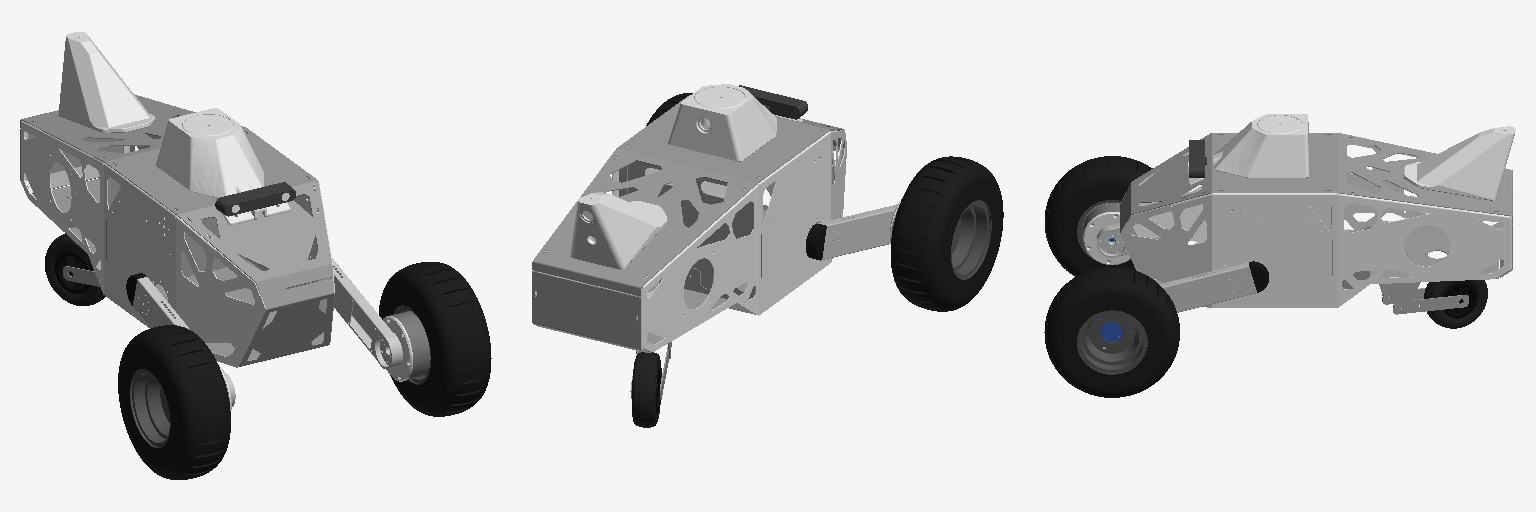
--- What the picture shows (computed from the rendered views, not written in the file) ---
The picture shows the robot from 3 angles, left to right: view 1: azimuth 30°, elevation 25°; view 2: azimuth 150°, elevation 25°; view 3: azimuth 270°, elevation 25°; orthographic projection.
Model C:\URDF with 5 links and 4 joints (4 revolute), rooted at urdf_drve_wheel_assembly, posed every joint at zero.
Visible links, largest first — view 1: urdf_rigid_v2, urdf_drve_wheel_assembly_2, urdf_drve_wheel_assembly, urdf_cstr_wheel_assembly__configuration_default; view 2: urdf_rigid_v2, urdf_drve_wheel_assembly_2, urdf_cstr_wheel_assembly__configuration_default; view 3: urdf_rigid_v2, urdf_drve_wheel_assembly, urdf_drve_wheel_assembly_2, urdf_cstr_wheel_assembly__configuration_default, urdf_cstr_assembly_v2.
Boxes of the visible links, x1,y1,x2,y2 form: urdf_rigid_v2: (20, 32, 430, 410); urdf_drve_wheel_assembly_2: (118, 325, 230, 479); urdf_drve_wheel_assembly: (379, 262, 491, 416); urdf_cstr_wheel_assembly__configuration_default: (45, 233, 105, 305); urdf_rigid_v2: (532, 84, 901, 352); urdf_drve_wheel_assembly_2: (891, 156, 1003, 311); urdf_cstr_wheel_assembly__configuration_default: (632, 352, 661, 427); urdf_rigid_v2: (1083, 114, 1515, 348); urdf_drve_wheel_assembly: (1044, 267, 1179, 397); urdf_drve_wheel_assembly_2: (1045, 156, 1152, 276); urdf_cstr_wheel_assembly__configuration_default: (1424, 280, 1487, 328); urdf_cstr_assembly_v2: (1379, 282, 1468, 314).
Bounding box of the posed robot: 0.7433 × 1.13 × 0.5663 m (x, y, z).
Meshes: 33 distinct files referenced, 45 mesh visuals loaded (31 binary STL); not drawn: 3 (file found but could not be loaded).

URDF robot description (C:\URDF):
<?xml version="1.0" ?>
<!-- Generated using onshape-to-robot -->
<!-- Onshape document_id: 156424edd687d78617c86c6b -->
<robot name="C:\URDF">
    <!-- Link urdf_drve_wheel_assembly -->
    <link name="urdf_drve_wheel_assembly">
        <inertial>
            <origin xyz="0.324722 -0.995092 -0.120257" rpy="0 0 0"/>
            <mass value="2.46468"/>
            <inertia ixx="0.0210846" ixy="-9.45889e-10" ixz="-2.03772e-09" iyy="0.0132215" iyz="5.21376e-10" izz="0.0132215"/>
        </inertial>
        <!-- Part bort_rim -->
        <visual>
            <origin xyz="0.331774 -0.995092 -0.120257" rpy="6.14407e-15 0.434592 1.5708"/>
            <geometry>
                <mesh filename="package://assets\bort_rim.stl"/>
            </geometry>
            <material name="bort_rim_material">
                <color rgba="0.372549 0.368627 0.368627 1.0"/>
            </material>
        </visual>
        <collision>
            <origin xyz="0.331774 -0.995092 -0.120257" rpy="6.14407e-15 0.434592 1.5708"/>
            <geometry>
                <mesh filename="package://assets\bort_rim.stl"/>
            </geometry>
        </collision>
        <!-- Part drve_output_carrier -->
        <visual>
            <origin xyz="0.238774 -0.995092 -0.120257" rpy="2.52899 -3.29145e-15 3.14159"/>
            <geometry>
                <mesh filename="package://assets\drve_output_carrier.stl"/>
            </geometry>
            <material name="drve_output_carrier_material">
                <color rgba="0.231373 0.380392 0.705882 1.0"/>
            </material>
        </visual>
        <collision>
            <origin xyz="0.238774 -0.995092 -0.120257" rpy="2.52899 -3.29145e-15 3.14159"/>
            <geometry>
                <mesh filename="package://assets\drve_output_carrier.stl"/>
            </geometry>
        </collision>
        <!-- Part bort_tire -->
        <visual>
            <origin xyz="0.331774 -0.995092 -0.120257" rpy="-3.14159 -1.1362 1.5708"/>
            <geometry>
                <mesh filename="package://assets\bort_tire.stl"/>
            </geometry>
            <material name="bort_tire_material">
                <color rgba="0.141176 0.141176 0.141176 1.0"/>
            </material>
        </visual>
        <collision>
            <origin xyz="0.331774 -0.995092 -0.120257" rpy="-3.14159 -1.1362 1.5708"/>
            <geometry>
                <mesh filename="package://assets\bort_tire.stl"/>
            </geometry>
        </collision>
    </link>
    <!-- Link urdf_rigid_v2 -->
    <link name="urdf_rigid_v2">
        <inertial>
            <origin xyz="0 0 0" rpy="0 0 0"/>
            <mass value="0"/>
            <inertia ixx="0" ixy="0" ixz="0" iyy="0" iyz="0" izz="0"/>
        </inertial>
        <!-- Part fcid_welded_body__configuration_ali_2mm -->
        <visual>
            <origin xyz="0.486251 -0.158399 -0.282125" rpy="-2.1834 -1.5708 0"/>
            <geometry>
                <mesh filename="package://assets\fcid_welded_body__configuration_ali_2mm.stl"/>
            </geometry>
            <material name="fcid_welded_body__configuration_ali_2mm_material">
                <color rgba="0.647059 0.647059 0.647059 1.0"/>
            </material>
        </visual>
        <collision>
            <origin xyz="0.486251 -0.158399 -0.282125" rpy="-2.1834 -1.5708 0"/>
            <geometry>
                <mesh filename="package://assets\fcid_welded_body__configuration_ali_2mm.stl"/>
            </geometry>
        </collision>
        <!-- Part fcid_gps_fin -->
        <visual>
            <origin xyz="0.490084 -0.150796 -0.282125" rpy="-2.20058 -1.5708 0"/>
            <geometry>
                <mesh filename="package://assets\fcid_gps_fin.stl"/>
            </geometry>
            <material name="fcid_gps_fin_material">
                <color rgba="0.917647 0.917647 0.917647 1.0"/>
            </material>
        </visual>
        <collision>
            <origin xyz="0.490084 -0.150796 -0.282125" rpy="-2.20058 -1.5708 0"/>
            <geometry>
                <mesh filename="package://assets\fcid_gps_fin.stl"/>
            </geometry>
        </collision>
        <!-- Part fcid_lidar_fin -->
        <visual>
            <origin xyz="0.484201 -0.15757 -0.282354" rpy="-2.1834 -1.5708 0"/>
            <geometry>
                <mesh filename="package://assets\fcid_lidar_fin.stl"/>
            </geometry>
            <material name="fcid_lidar_fin_material">
                <color rgba="0.917647 0.917647 0.917647 1.0"/>
            </material>
        </visual>
        <collision>
            <origin xyz="0.484201 -0.15757 -0.282354" rpy="-2.1834 -1.5708 0"/>
            <geometry>
                <mesh filename="package://assets\fcid_lidar_fin.stl"/>
            </geometry>
        </collision>
        <!-- Part fcid_lid__configuration_ali_2mm -->
        <visual>
            <origin xyz="0.486251 -0.158399 -0.282125" rpy="-2.1834 -1.5708 0"/>
            <geometry>
                <mesh filename="package://assets\fcid_lid__configuration_ali_2mm.stl"/>
            </geometry>
            <material name="fcid_lid__configuration_ali_2mm_material">
                <color rgba="0.647059 0.647059 0.647059 1.0"/>
            </material>
        </visual>
        <collision>
            <origin xyz="0.486251 -0.158399 -0.282125" rpy="-2.1834 -1.5708 0"/>
            <geometry>
                <mesh filename="package://assets\fcid_lid__configuration_ali_2mm.stl"/>
            </geometry>
        </collision>
        <!-- Part fcid_body_right__configuration_ali_2mm -->
        <visual>
            <origin xyz="0.486251 -0.158399 -0.282125" rpy="-2.1834 -1.5708 0"/>
            <geometry>
                <mesh filename="package://assets\fcid_body_right__configuration_ali_2mm.stl"/>
            </geometry>
            <material name="fcid_body_right__configuration_ali_2mm_material">
                <color rgba="0.917647 0.917647 0.917647 1.0"/>
            </material>
        </visual>
        <collision>
            <origin xyz="0.486251 -0.158399 -0.282125" rpy="-2.1834 -1.5708 0"/>
            <geometry>
                <mesh filename="package://assets\fcid_body_right__configuration_ali_2mm.stl"/>
            </geometry>
        </collision>
        <!-- Part fcid_divider_mount__configuration_ali_2mm -->
        <visual>
            <origin xyz="0.486251 -0.158399 -0.282125" rpy="-2.1834 -1.5708 0"/>
            <geometry>
                <mesh filename="package://assets\fcid_divider_mount__configuration_ali_2mm.stl"/>
            </geometry>
            <material name="fcid_divider_mount__configuration_ali_2mm_material">
                <color rgba="0.647059 0.647059 0.647059 1.0"/>
            </material>
        </visual>
        <collision>
            <origin xyz="0.486251 -0.158399 -0.282125" rpy="-2.1834 -1.5708 0"/>
            <geometry>
                <mesh filename="package://assets\fcid_divider_mount__configuration_ali_2mm.stl"/>
            </geometry>
        </collision>
        <!-- Part fcid_camera_mount -->
        <visual>
            <origin xyz="0.469199 -0.153954 -0.282125" rpy="-2.1834 -1.5708 0"/>
            <geometry>
                <mesh filename="package://assets\fcid_camera_mount.stl"/>
            </geometry>
            <material name="fcid_camera_mount_material">
                <color rgba="0.917647 0.917647 0.917647 1.0"/>
            </material>
        </visual>
        <collision>
            <origin xyz="0.469199 -0.153954 -0.282125" rpy="-2.1834 -1.5708 0"/>
            <geometry>
                <mesh filename="package://assets\fcid_camera_mount.stl"/>
            </geometry>
        </collision>
        <!-- Part fcid_rear__configuration_ali_2mm -->
        <visual>
            <origin xyz="0.486251 -0.158399 -0.282125" rpy="-2.1834 -1.5708 0"/>
            <geometry>
                <mesh filename="package://assets\fcid_rear__configuration_ali_2mm.stl"/>
            </geometry>
            <material name="fcid_rear__configuration_ali_2mm_material">
                <color rgba="0.647059 0.647059 0.647059 1.0"/>
            </material>
        </visual>
        <collision>
            <origin xyz="0.486251 -0.158399 -0.282125" rpy="-2.1834 -1.5708 0"/>
            <geometry>
                <mesh filename="package://assets\fcid_rear__configuration_ali_2mm.stl"/>
            </geometry>
        </collision>
        <!-- Part fcid_divider__configuration_ali_2mm -->
        <visual>
            <origin xyz="0.486251 -0.158399 -0.282125" rpy="-2.1834 -1.5708 0"/>
            <geometry>
                <mesh filename="package://assets\fcid_divider__configuration_ali_2mm.stl"/>
            </geometry>
            <material name="fcid_divider__configuration_ali_2mm_material">
                <color rgba="0.647059 0.647059 0.647059 1.0"/>
            </material>
        </visual>
        <collision>
            <origin xyz="0.486251 -0.158399 -0.282125" rpy="-2.1834 -1.5708 0"/>
            <geometry>
                <mesh filename="package://assets\fcid_divider__configuration_ali_2mm.stl"/>
            </geometry>
        </collision>
        <!-- Part fcid_body_left__configuration_ali_2mm -->
        <visual>
            <origin xyz="0.486251 -0.158399 -0.282125" rpy="-2.1834 -1.5708 0"/>
            <geometry>
                <mesh filename="package://assets\fcid_body_left__configuration_ali_2mm.stl"/>
            </geometry>
            <material name="fcid_body_left__configuration_ali_2mm_material">
                <color rgba="0.917647 0.917647 0.917647 1.0"/>
            </material>
        </visual>
        <collision>
            <origin xyz="0.486251 -0.158399 -0.282125" rpy="-2.1834 -1.5708 0"/>
            <geometry>
                <mesh filename="package://assets\fcid_body_left__configuration_ali_2mm.stl"/>
            </geometry>
        </collision>
        <!-- Part velodyne_vlp16 -->
        <visual>
            <origin xyz="0.560407 0.0981063 -0.282354" rpy="-4.83258e-15 6.44901e-15 -0.612605"/>
            <geometry>
                <mesh filename="package://assets\velodyne_vlp16.stl"/>
            </geometry>
            <material name="velodyne_vlp16_material">
                <color rgba="0.74902 0.74902 0.74902 1.0"/>
            </material>
        </visual>
        <collision>
            <origin xyz="0.560407 0.0981063 -0.282354" rpy="-4.83258e-15 6.44901e-15 -0.612605"/>
            <geometry>
                <mesh filename="package://assets\velodyne_vlp16.stl"/>
            </geometry>
        </collision>
        <!-- Part bort_motor -->
        <visual>
            <origin xyz="0 -1.11022e-16 -0.062" rpy="-1.53959 1.5708 0"/>
            <geometry>
                <mesh filename="package://assets\bort_motor.stl"/>
            </geometry>
            <material name="bort_motor_material">
                <color rgba="0.654902 0.823529 0.576471 1.0"/>
            </material>
        </visual>
        <collision>
            <origin xyz="0 -1.11022e-16 -0.062" rpy="-1.53959 1.5708 0"/>
            <geometry>
                <mesh filename="package://assets\bort_motor.stl"/>
            </geometry>
        </collision>
        <!-- Part drve_arm_bracket -->
        <visual>
            <origin xyz="0 -1.66533e-16 -0.08225" rpy="-1.53959 1.5708 0"/>
            <geometry>
                <mesh filename="package://assets\drve_arm_bracket.stl"/>
            </geometry>
            <material name="drve_arm_bracket_material">
                <color rgba="0.8 0.8 0.8 1.0"/>
            </material>
        </visual>
        <collision>
            <origin xyz="0 -1.66533e-16 -0.08225" rpy="-1.53959 1.5708 0"/>
            <geometry>
                <mesh filename="package://assets\drve_arm_bracket.stl"/>
            </geometry>
        </collision>
        <!-- Part drve_bottom_plate -->
        <visual>
            <origin xyz="0 -1.11022e-16 -0.062" rpy="-1.53959 1.5708 0"/>
            <geometry>
                <mesh filename="package://assets\drve_bottom_plate.stl"/>
            </geometry>
            <material name="drve_bottom_plate_material">
                <color rgba="0.917647 0.917647 0.917647 1.0"/>
            </material>
        </visual>
        <collision>
            <origin xyz="0 -1.11022e-16 -0.062" rpy="-1.53959 1.5708 0"/>
            <geometry>
                <mesh filename="package://assets\drve_bottom_plate.stl"/>
            </geometry>
        </collision>
        <!-- Part drve_top_plate -->
        <visual>
            <origin xyz="0 -1.11022e-16 -0.062" rpy="-1.53959 1.5708 0"/>
            <geometry>
                <mesh filename="package://assets\drve_top_plate.stl"/>
            </geometry>
            <material name="drve_top_plate_material">
                <color rgba="0.917647 0.917647 0.917647 1.0"/>
            </material>
        </visual>
        <collision>
            <origin xyz="0 -1.11022e-16 -0.062" rpy="-1.53959 1.5708 0"/>
            <geometry>
                <mesh filename="package://assets\drve_top_plate.stl"/>
            </geometry>
        </collision>
        <!-- Part drve_middle -->
        <visual>
            <origin xyz="0 -1.11022e-16 -0.062" rpy="-1.53959 1.5708 0"/>
            <geometry>
                <mesh filename="package://assets\drve_middle.stl"/>
            </geometry>
            <material name="drve_middle_material">
                <color rgba="0.501961 0.501961 0.501961 1.0"/>
            </material>
        </visual>
        <collision>
            <origin xyz="0 -1.11022e-16 -0.062" rpy="-1.53959 1.5708 0"/>
            <geometry>
                <mesh filename="package://assets\drve_middle.stl"/>
            </geometry>
        </collision>
        <!-- Part optic -->
        <visual>
            <origin xyz="0.383794 0.125324 -0.222125" rpy="-2.1834 -1.5708 0"/>
            <geometry>
                <mesh filename="package://assets\optic.stl"/>
            </geometry>
            <material name="optic_material">
                <color rgba="0.964706 0.964706 0.952941 1.0"/>
            </material>
        </visual>
        <collision>
            <origin xyz="0.383794 0.125324 -0.222125" rpy="-2.1834 -1.5708 0"/>
            <geometry>
                <mesh filename="package://assets\optic.stl"/>
            </geometry>
        </collision>
        <!-- Part optic_2 -->
        <visual>
            <origin xyz="0.383794 0.125324 -0.342125" rpy="-2.1834 -1.5708 0"/>
            <geometry>
                <mesh filename="package://assets\optic.stl"/>
            </geometry>
            <material name="optic_2_material">
                <color rgba="0.964706 0.964706 0.952941 1.0"/>
            </material>
        </visual>
        <collision>
            <origin xyz="0.383794 0.125324 -0.342125" rpy="-2.1834 -1.5708 0"/>
            <geometry>
                <mesh filename="package://assets\optic.stl"/>
            </geometry>
        </collision>
        <!-- Part optic_3 -->
        <visual>
            <origin xyz="0.383794 0.125324 -0.342125" rpy="-2.1834 -1.5708 0"/>
            <geometry>
                <mesh filename="package://assets\optic__2.stl"/>
            </geometry>
            <material name="optic_3_material">
                <color rgba="0.964706 0.964706 0.952941 1.0"/>
            </material>
        </visual>
        <collision>
            <origin xyz="0.383794 0.125324 -0.342125" rpy="-2.1834 -1.5708 0"/>
            <geometry>
                <mesh filename="package://assets\optic__2.stl"/>
            </geometry>
        </collision>
        <!-- Part zed2_ip_outer_with_lens_v8 -->
        <visual>
            <origin xyz="0.373352 0.122099 -0.273156" rpy="-2.1834 -1.5708 0"/>
            <geometry>
                <mesh filename="package://assets\zed2_ip_outer_with_lens_v8.stl"/>
            </geometry>
            <material name="zed2_ip_outer_with_lens_v8_material">
                <color rgba="0.964706 0.964706 0.952941 1.0"/>
            </material>
        </visual>
        <collision>
            <origin xyz="0.373352 0.122099 -0.273156" rpy="-2.1834 -1.5708 0"/>
            <geometry>
                <mesh filename="package://assets\zed2_ip_outer_with_lens_v8.stl"/>
            </geometry>
        </collision>
        <!-- Part optic_4 -->
        <visual>
            <origin xyz="0.383794 0.125324 -0.222125" rpy="-2.1834 -1.5708 0"/>
            <geometry>
                <mesh filename="package://assets\optic__3.stl"/>
            </geometry>
            <material name="optic_4_material">
                <color rgba="0.192157 0.192157 0.192157 1.0"/>
            </material>
        </visual>
        <collision>
            <origin xyz="0.383794 0.125324 -0.222125" rpy="-2.1834 -1.5708 0"/>
            <geometry>
                <mesh filename="package://assets\optic__3.stl"/>
            </geometry>
        </collision>
        <!-- Part optic_5 -->
        <visual>
            <origin xyz="0.383794 0.125324 -0.342125" rpy="-2.1834 -1.5708 0"/>
            <geometry>
                <mesh filename="package://assets\optic__3.stl"/>
            </geometry>
            <material name="optic_5_material">
                <color rgba="0.192157 0.192157 0.192157 1.0"/>
            </material>
        </visual>
        <collision>
            <origin xyz="0.383794 0.125324 -0.342125" rpy="-2.1834 -1.5708 0"/>
            <geometry>
                <mesh filename="package://assets\optic__3.stl"/>
            </geometry>
        </collision>
        <!-- Part optic_6 -->
        <visual>
            <origin xyz="0.383794 0.125324 -0.342125" rpy="-2.1834 -1.5708 0"/>
            <geometry>
                <mesh filename="package://assets\optic__4.stl"/>
            </geometry>
            <material name="optic_6_material">
                <color rgba="0.964706 0.964706 0.952941 1.0"/>
            </material>
        </visual>
        <collision>
            <origin xyz="0.383794 0.125324 -0.342125" rpy="-2.1834 -1.5708 0"/>
            <geometry>
                <mesh filename="package://assets\optic__4.stl"/>
            </geometry>
        </collision>
        <!-- Part optic_7 -->
        <visual>
            <origin xyz="0.383794 0.125324 -0.222125" rpy="-2.1834 -1.5708 0"/>
            <geometry>
                <mesh filename="package://assets\optic__2.stl"/>
            </geometry>
            <material name="optic_7_material">
                <color rgba="0.964706 0.964706 0.952941 1.0"/>
            </material>
        </visual>
        <collision>
            <origin xyz="0.383794 0.125324 -0.222125" rpy="-2.1834 -1.5708 0"/>
            <geometry>
                <mesh filename="package://assets\optic__2.stl"/>
            </geometry>
        </collision>
        <!-- Part zed2_ip_outer_with_lens_v8_2 -->
        <visual>
            <origin xyz="0.373352 0.122099 -0.273156" rpy="-2.1834 -1.5708 0"/>
            <geometry>
                <mesh filename="package://assets\zed2_ip_outer_with_lens_v8__2.stl"/>
            </geometry>
            <material name="zed2_ip_outer_with_lens_v8_2_material">
                <color rgba="0.964706 0.964706 0.952941 1.0"/>
            </material>
        </visual>
        <collision>
            <origin xyz="0.373352 0.122099 -0.273156" rpy="-2.1834 -1.5708 0"/>
            <geometry>
                <mesh filename="package://assets\zed2_ip_outer_with_lens_v8__2.stl"/>
            </geometry>
        </collision>
        <!-- Part zed2_ip_outer_with_lens_v8_3 -->
        <visual>
            <origin xyz="0.373352 0.122099 -0.273156" rpy="-2.1834 -1.5708 0"/>
            <geometry>
                <mesh filename="package://assets\zed2_ip_outer_with_lens_v8__3.stl"/>
            </geometry>
            <material name="zed2_ip_outer_with_lens_v8_3_material">
                <color rgba="0.286275 0.286275 0.286275 1.0"/>
            </material>
        </visual>
        <collision>
            <origin xyz="0.373352 0.122099 -0.273156" rpy="-2.1834 -1.5708 0"/>
            <geometry>
                <mesh filename="package://assets\zed2_ip_outer_with_lens_v8__3.stl"/>
            </geometry>
        </collision>
        <!-- Part optic_8 -->
        <visual>
            <origin xyz="0.383794 0.125324 -0.222125" rpy="-2.1834 -1.5708 0"/>
            <geometry>
                <mesh filename="package://assets\optic__4.stl"/>
            </geometry>
            <material name="optic_8_material">
                <color rgba="0.964706 0.964706 0.952941 1.0"/>
            </material>
        </visual>
        <collision>
            <origin xyz="0.383794 0.125324 -0.222125" rpy="-2.1834 -1.5708 0"/>
            <geometry>
                <mesh filename="package://assets\optic__4.stl"/>
            </geometry>
        </collision>
        <!-- Part bort_motor_2 -->
        <visual>
            <origin xyz="-1.21014e-14 4.05231e-15 -0.50225" rpy="-2.23032 -1.5708 0"/>
            <geometry>
                <mesh filename="package://assets\bort_motor.stl"/>
            </geometry>
            <material name="bort_motor_2_material">
                <color rgba="0.654902 0.823529 0.576471 1.0"/>
            </material>
        </visual>
        <collision>
            <origin xyz="-1.21014e-14 4.05231e-15 -0.50225" rpy="-2.23032 -1.5708 0"/>
            <geometry>
                <mesh filename="package://assets\bort_motor.stl"/>
            </geometry>
        </collision>
        <!-- Part drve_arm_bracket_2 -->
        <visual>
            <origin xyz="-1.18794e-14 4.16334e-15 -0.482" rpy="-2.23032 -1.5708 0"/>
            <geometry>
                <mesh filename="package://assets\drve_arm_bracket.stl"/>
            </geometry>
            <material name="drve_arm_bracket_2_material">
                <color rgba="0.8 0.8 0.8 1.0"/>
            </material>
        </visual>
        <collision>
            <origin xyz="-1.18794e-14 4.16334e-15 -0.482" rpy="-2.23032 -1.5708 0"/>
            <geometry>
                <mesh filename="package://assets\drve_arm_bracket.stl"/>
            </geometry>
        </collision>
        <!-- Part drve_bottom_plate_2 -->
        <visual>
            <origin xyz="-1.23235e-14 4.21885e-15 -0.50225" rpy="-2.23032 -1.5708 0"/>
            <geometry>
                <mesh filename="package://assets\drve_bottom_plate.stl"/>
            </geometry>
            <material name="drve_bottom_plate_2_material">
                <color rgba="0.917647 0.917647 0.917647 1.0"/>
            </material>
        </visual>
        <collision>
            <origin xyz="-1.23235e-14 4.21885e-15 -0.50225" rpy="-2.23032 -1.5708 0"/>
            <geometry>
                <mesh filename="package://assets\drve_bottom_plate.stl"/>
            </geometry>
        </collision>
        <!-- Part drve_top_plate_2 -->
        <visual>
            <origin xyz="-1.23235e-14 4.21885e-15 -0.50225" rpy="-2.23032 -1.5708 0"/>
            <geometry>
                <mesh filename="package://assets\drve_top_plate.stl"/>
            </geometry>
            <material name="drve_top_plate_2_material">
                <color rgba="0.917647 0.917647 0.917647 1.0"/>
            </material>
        </visual>
        <collision>
            <origin xyz="-1.23235e-14 4.21885e-15 -0.50225" rpy="-2.23032 -1.5708 0"/>
            <geometry>
                <mesh filename="package://assets\drve_top_plate.stl"/>
            </geometry>
        </collision>
        <!-- Part drve_middle_2 -->
        <visual>
            <origin xyz="-1.23235e-14 4.21885e-15 -0.50225" rpy="-2.23032 -1.5708 0"/>
            <geometry>
                <mesh filename="package://assets\drve_middle.stl"/>
            </geometry>
            <material name="drve_middle_2_material">
                <color rgba="0.501961 0.501961 0.501961 1.0"/>
            </material>
        </visual>
        <collision>
            <origin xyz="-1.23235e-14 4.21885e-15 -0.50225" rpy="-2.23032 -1.5708 0"/>
            <geometry>
                <mesh filename="package://assets\drve_middle.stl"/>
            </geometry>
        </collision>
        <!-- Part arm_endcap -->
        <visual>
            <origin xyz="0.118543 -0.091911 -0.483125" rpy="-0.911273 1.5708 0"/>
            <geometry>
                <mesh filename="package://assets\arm_endcap.stl"/>
            </geometry>
            <material name="arm_endcap_material">
                <color rgba="0.121569 0.121569 0.121569 1.0"/>
            </material>
        </visual>
        <collision>
            <origin xyz="0.118543 -0.091911 -0.483125" rpy="-0.911273 1.5708 0"/>
            <geometry>
                <mesh filename="package://assets\arm_endcap.stl"/>
            </geometry>
        </collision>
        <!-- Part arm_endcap_2 -->
        <visual>
            <origin xyz="0.118543 -0.091911 -0.081125" rpy="-0.911273 1.5708 0"/>
            <geometry>
                <mesh filename="package://assets\arm_endcap.stl"/>
            </geometry>
            <material name="arm_endcap_2_material">
                <color rgba="0.121569 0.121569 0.121569 1.0"/>
            </material>
        </visual>
        <collision>
            <origin xyz="0.118543 -0.091911 -0.081125" rpy="-0.911273 1.5708 0"/>
            <geometry>
                <mesh filename="package://assets\arm_endcap.stl"/>
            </geometry>
        </collision>
        <!-- Part arm_rhs -->
        <visual>
            <origin xyz="0.118543 -0.091911 -0.483125" rpy="-0.911273 1.5708 0"/>
            <geometry>
                <mesh filename="package://assets\arm_rhs.stl"/>
            </geometry>
            <material name="arm_rhs_material">
                <color rgba="0.8 0.8 0.8 1.0"/>
            </material>
        </visual>
        <collision>
            <origin xyz="0.118543 -0.091911 -0.483125" rpy="-0.911273 1.5708 0"/>
            <geometry>
                <mesh filename="package://assets\arm_rhs.stl"/>
            </geometry>
        </collision>
        <!-- Part arm_rhs_2 -->
        <visual>
            <origin xyz="0.149927 -0.00467996 -0.081125" rpy="1.53959 -1.5708 0"/>
            <geometry>
                <mesh filename="package://assets\arm_rhs.stl"/>
            </geometry>
            <material name="arm_rhs_2_material">
                <color rgba="0.8 0.8 0.8 1.0"/>
            </material>
        </visual>
        <collision>
            <origin xyz="0.149927 -0.00467996 -0.081125" rpy="1.53959 -1.5708 0"/>
            <geometry>
                <mesh filename="package://assets\arm_rhs.stl"/>
            </geometry>
        </collision>
    </link>
    <!-- Link urdf_cstr_assembly_v2 -->
    <link name="urdf_cstr_assembly_v2">
        <inertial>
            <origin xyz="1.5621e-07 -0.0357066 -0.0782487" rpy="0 0 0"/>
            <mass value="0.252085"/>
            <inertia ixx="0.0014392" ixy="-6.87264e-10" ixz="-2.53705e-09" iyy="0.000970124" iyz="-0.000416745" izz="0.000918439"/>
        </inertial>
        <!-- Part caster_arm_r -->
        <visual>
            <origin xyz="-0.0864 -0.17791 -0.159689" rpy="3.17155e-16 -0.0876147 1.5708"/>
            <geometry>
                <mesh filename="package://assets\caster_arm_r.stl"/>
            </geometry>
            <material name="caster_arm_r_material">
                <color rgba="0.647059 0.647059 0.647059 1.0"/>
            </material>
        </visual>
        <collision>
            <origin xyz="-0.0864 -0.17791 -0.159689" rpy="3.17155e-16 -0.0876147 1.5708"/>
            <geometry>
                <mesh filename="package://assets\caster_arm_r.stl"/>
            </geometry>
        </collision>
        <!-- Part bearing_spacer -->
        <visual>
            <origin xyz="0 0 -0.006" rpy="0 -1.54074e-33 1.27705e-17"/>
            <geometry>
                <mesh filename="package://assets\bearing_spacer.stl"/>
            </geometry>
            <material name="bearing_spacer_material">
                <color rgba="0.8 0.8 0.8 1.0"/>
            </material>
        </visual>
        <collision>
            <origin xyz="0 0 -0.006" rpy="0 -1.54074e-33 1.27705e-17"/>
            <geometry>
                <mesh filename="package://assets\bearing_spacer.stl"/>
            </geometry>
        </collision>
        <!-- Part caster_arm_r_2 -->
        <visual>
            <origin xyz="-0.0254 -0.17791 -0.159689" rpy="-2.46491e-15 -0.0876147 1.5708"/>
            <geometry>
                <mesh filename="package://assets\caster_arm_r.stl"/>
            </geometry>
            <material name="caster_arm_r_2_material">
                <color rgba="0.647059 0.647059 0.647059 1.0"/>
            </material>
        </visual>
        <collision>
            <origin xyz="-0.0254 -0.17791 -0.159689" rpy="-2.46491e-15 -0.0876147 1.5708"/>
            <geometry>
                <mesh filename="package://assets\caster_arm_r.stl"/>
            </geometry>
        </collision>
        <!-- Part part_1 -->
        <visual>
            <origin xyz="2.77556e-17 -0.015 -0.0958377" rpy="0 1.41391e-20 1.27705e-17"/>
            <geometry>
                <mesh filename="package://assets\part_1.stl"/>
            </geometry>
            <material name="part_1_material">
                <color rgba="0.647059 0.647059 0.647059 1.0"/>
            </material>
        </visual>
        <collision>
            <origin xyz="2.77556e-17 -0.015 -0.0958377" rpy="0 1.41391e-20 1.27705e-17"/>
            <geometry>
                <mesh filename="package://assets\part_1.stl"/>
            </geometry>
        </collision>
    </link>
    <!-- Link urdf_cstr_wheel_assembly__configuration_default -->
    <link name="urdf_cstr_wheel_assembly__configuration_default">
        <inertial>
            <origin xyz="6.26367e-17 -2.28362e-13 -0.025" rpy="0 0 0"/>
            <mass value="0.45"/>
            <inertia ixx="0.000707413" ixy="-4.40727e-18" ixz="-5.04462e-19" iyy="0.000707413" iyz="7.82969e-19" izz="0.00119057"/>
        </inertial>
        <!-- Part cstr_wheel_tyre -->
        <visual>
            <origin xyz="0 0 -0.025" rpy="-1.5708 -1.5708 0"/>
            <geometry>
                <mesh filename="package://assets\cstr_wheel_tyre.stl"/>
            </geometry>
            <material name="cstr_wheel_tyre_material">
                <color rgba="0.168627 0.168627 0.168627 1.0"/>
            </material>
        </visual>
        <collision>
            <origin xyz="0 0 -0.025" rpy="-1.5708 -1.5708 0"/>
            <geometry>
                <mesh filename="package://assets\cstr_wheel_tyre.stl"/>
            </geometry>
        </collision>
        <!-- Part cstr_wheel_rim -->
        <visual>
            <origin xyz="0 0 -0.025" rpy="-1.5708 -1.5708 0"/>
            <geometry>
                <mesh filename="package://assets\cstr_wheel_rim.stl"/>
            </geometry>
            <material name="cstr_wheel_rim_material">
                <color rgba="0.0901961 0.0901961 0.0901961 1.0"/>
            </material>
        </visual>
        <collision>
            <origin xyz="0 0 -0.025" rpy="-1.5708 -1.5708 0"/>
            <geometry>
                <mesh filename="package://assets\cstr_wheel_rim.stl"/>
            </geometry>
        </collision>
    </link>
    <!-- Joint from urdf_cstr_assembly_v2 to urdf_cstr_wheel_assembly__configuration_default -->
    <joint name="wheelrear_speed" type="revolute">
        <origin xyz="-0.025 -0.159386 -0.142" rpy="1.5708 0.870779 -1.5708"/>
        <parent link="urdf_cstr_assembly_v2"/>
        <child link="urdf_cstr_wheel_assembly__configuration_default"/>
        <axis xyz="0 0 1"/>
        <limit effort="10" velocity="10" lower="-3.141592653589793" upper="3.141592653589793"/>
    </joint>
    <!-- Joint from urdf_rigid_v2 to urdf_cstr_assembly_v2 -->
    <joint name="caster" type="revolute">
        <origin xyz="0.588877 -0.34114 -0.282125" rpy="1.5708 1.14232 2.52899"/>
        <parent link="urdf_rigid_v2"/>
        <child link="urdf_cstr_assembly_v2"/>
        <axis xyz="0 0 1"/>
        <limit effort="10" velocity="10" lower="-3.141592653589793" upper="3.141592653589793"/>
    </joint>
    <!-- Link urdf_drve_wheel_assembly_2 -->
    <link name="urdf_drve_wheel_assembly_2">
        <inertial>
            <origin xyz="-1.11746e-08 6.45164e-09 -0.0239477" rpy="0 0 0"/>
            <mass value="2.46468"/>
            <inertia ixx="0.0132215" ixy="4.03722e-10" ixz="1.94557e-09" iyy="0.0132215" iyz="-1.12328e-09" izz="0.0210846"/>
        </inertial>
        <!-- Part bort_rim_2 -->
        <visual>
            <origin xyz="0 0 -0.031" rpy="1.5708 5.00379e-15 1.0472"/>
            <geometry>
                <mesh filename="package://assets\bort_rim.stl"/>
            </geometry>
            <material name="bort_rim_2_material">
                <color rgba="0.372549 0.368627 0.368627 1.0"/>
            </material>
        </visual>
        <collision>
            <origin xyz="0 0 -0.031" rpy="1.5708 5.00379e-15 1.0472"/>
            <geometry>
                <mesh filename="package://assets\bort_rim.stl"/>
            </geometry>
        </collision>
        <!-- Part drve_output_carrier_2 -->
        <visual>
            <origin xyz="0 0 0.062" rpy="-1.5708 -1.5708 0"/>
            <geometry>
                <mesh filename="package://assets\drve_output_carrier.stl"/>
            </geometry>
            <material name="drve_output_carrier_2_material">
                <color rgba="0.231373 0.380392 0.705882 1.0"/>
            </material>
        </visual>
        <collision>
            <origin xyz="0 0 0.062" rpy="-1.5708 -1.5708 0"/>
            <geometry>
                <mesh filename="package://assets\drve_output_carrier.stl"/>
            </geometry>
        </collision>
        <!-- Part bort_tire_2 -->
        <visual>
            <origin xyz="-1.11022e-16 -2.77556e-17 -0.031" rpy="-1.5708 1.39687e-15 -0.523599"/>
            <geometry>
                <mesh filename="package://assets\bort_tire.stl"/>
            </geometry>
            <material name="bort_tire_2_material">
                <color rgba="0.141176 0.141176 0.141176 1.0"/>
            </material>
        </visual>
        <collision>
            <origin xyz="-1.11022e-16 -2.77556e-17 -0.031" rpy="-1.5708 1.39687e-15 -0.523599"/>
            <geometry>
                <mesh filename="package://assets\bort_tire.stl"/>
            </geometry>
        </collision>
    </link>
    <!-- Joint from urdf_rigid_v2 to urdf_drve_wheel_assembly_2 -->
    <joint name="wheelright_speed" type="revolute">
        <origin xyz="-1.27676e-14 4.21885e-15 -0.56425" rpy="-5.12554e-15 6.25685e-15 -0.659523"/>
        <parent link="urdf_rigid_v2"/>
        <child link="urdf_drve_wheel_assembly_2"/>
        <axis xyz="0 0 1"/>
        <limit effort="10" velocity="10" lower="-3.141592653589793" upper="3.141592653589793"/>
    </joint>
    <!-- Joint from urdf_drve_wheel_assembly to urdf_rigid_v2 -->
    <joint name="wheelleft_speed" type="revolute">
        <origin xyz="0.300774 -0.995092 -0.120257" rpy="1.5708 -0.612605 1.5708"/>
        <parent link="urdf_drve_wheel_assembly"/>
        <child link="urdf_rigid_v2"/>
        <axis xyz="0 0 1"/>
        <limit effort="10" velocity="10" lower="-3.141592653589793" upper="3.141592653589793"/>
    </joint>
</robot>
